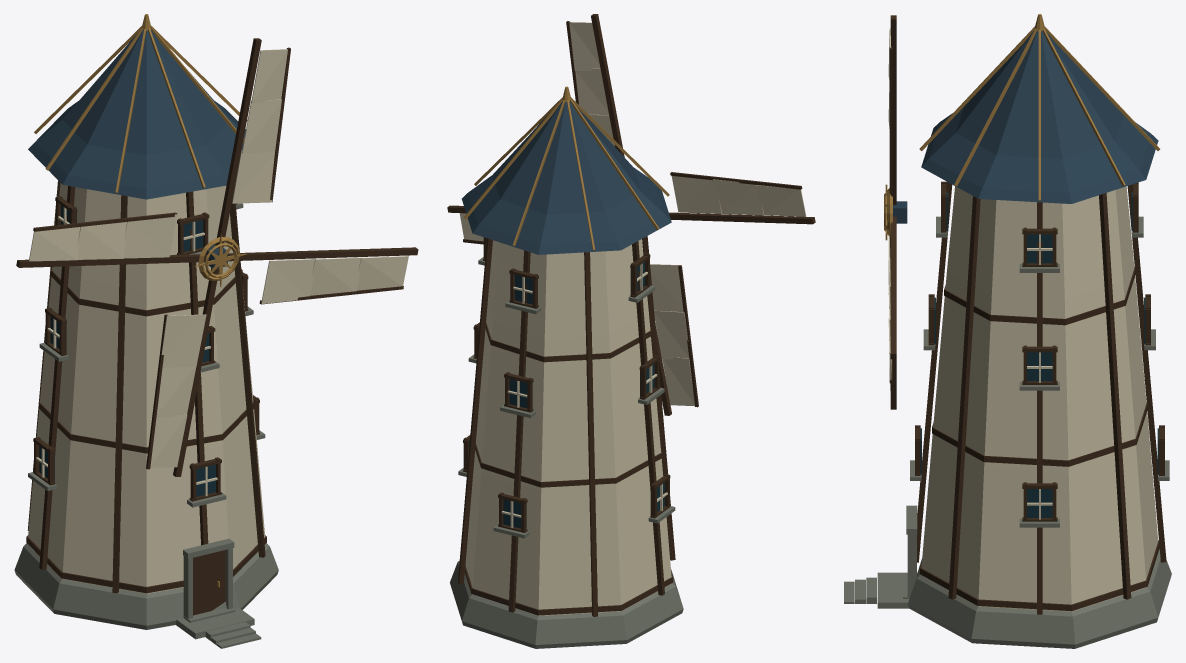
Rendered from Windmill_LOD1.fbx.
3 renders of one model, left to right at view 1: azimuth 30°, elevation 25°; view 2: azimuth 150°, elevation 25°; view 3: azimuth 270°, elevation 25°, orthographic. The views are drawn at different scales.
Visible parts, largest first — view 1: Windmill_Body, Rotor; view 2: Windmill_Body, Rotor; view 3: Windmill_Body, Rotor.
Boxes of the visible parts, left/top/right/bottom form: Windmill_Body: left=14, top=14, right=278, bottom=648; Rotor: left=16, top=38, right=418, bottom=476; Windmill_Body: left=450, top=86, right=683, bottom=648; Rotor: left=447, top=14, right=815, bottom=415; Windmill_Body: left=844, top=14, right=1171, bottom=648; Rotor: left=884, top=15, right=907, bottom=409.
Size of the model in its own units: 15.53 by 21.46 by 10.67.
